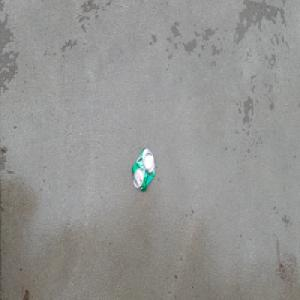SodaCan: (131, 146, 155, 193)
